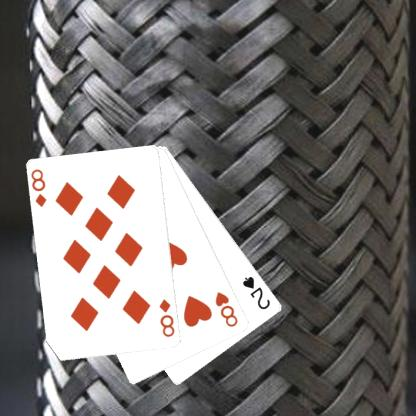2S: (240, 274, 272, 311)
8D: (157, 296, 176, 339), (30, 166, 48, 209)
8H: (212, 288, 240, 328)
